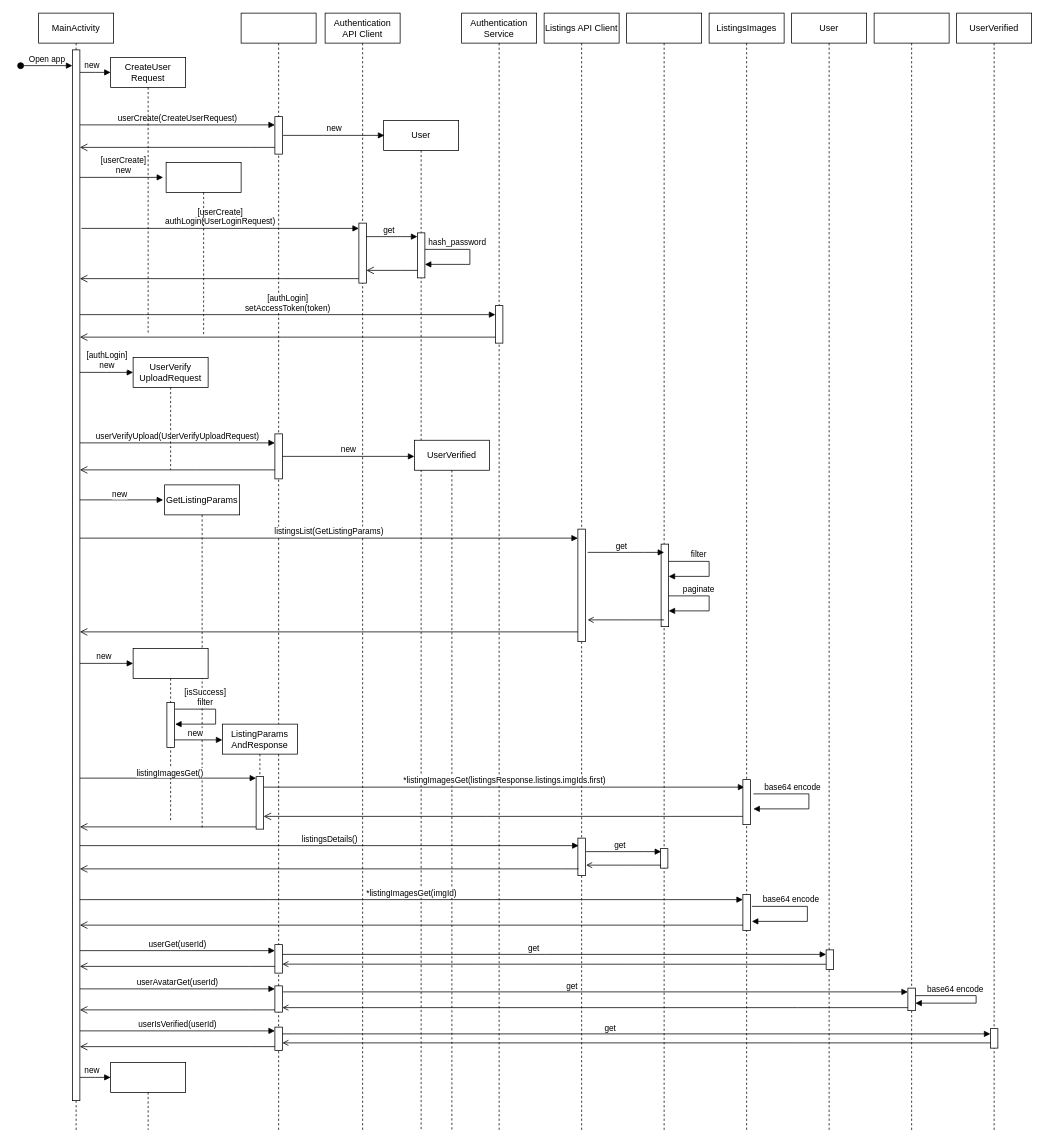
The diagram is 1045 pixels wide and 1143 high, and some of its shapes have lost their labels. The box of each missing label's shape, as (x1, y1, x2, y2) in pixels:
ListingParamsAnd ResultResponse: (132, 648, 208, 822)
Listings: (626, 12, 702, 1130)
MessageParams: (110, 1062, 186, 1130)
User API Client: (240, 12, 316, 1130)
UserAvatar: (873, 12, 949, 1130)
UserLogin Request: (165, 162, 241, 335)
